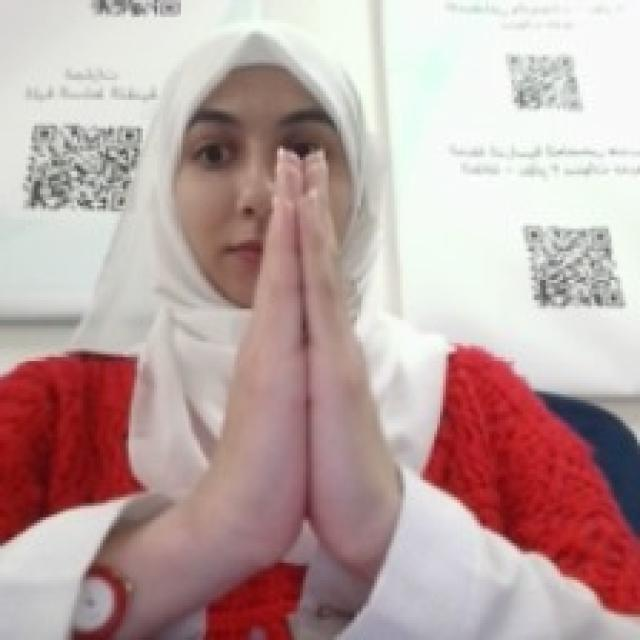sorry: (214, 160, 386, 560)
